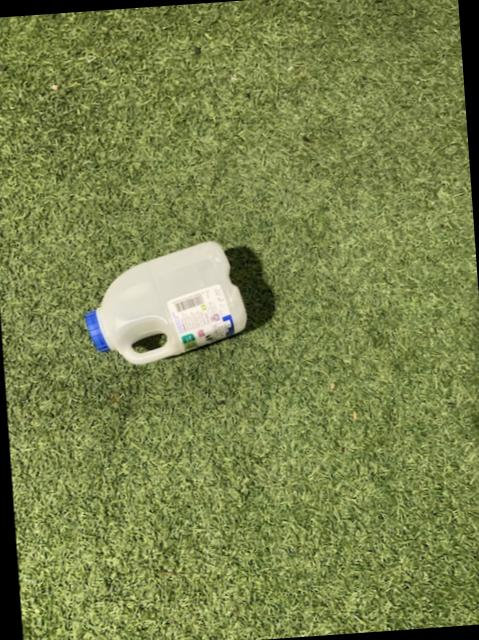plastic: (86, 241, 246, 364)
